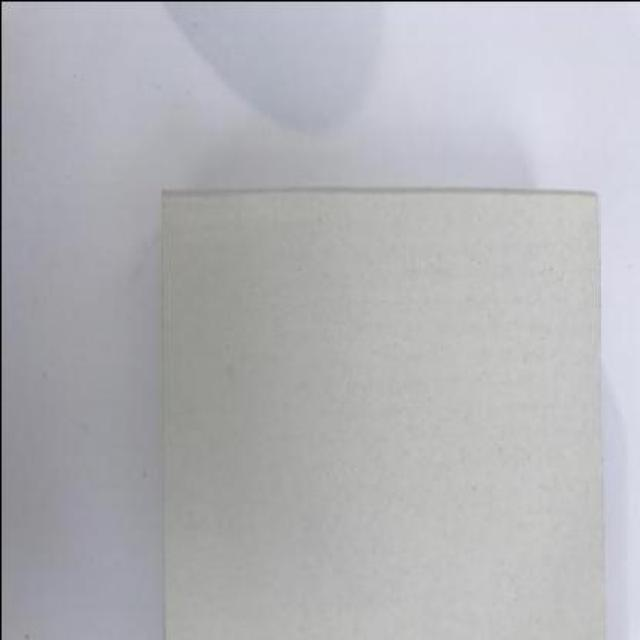cardboard: (162, 197, 609, 638)
paper: (162, 187, 606, 638)
